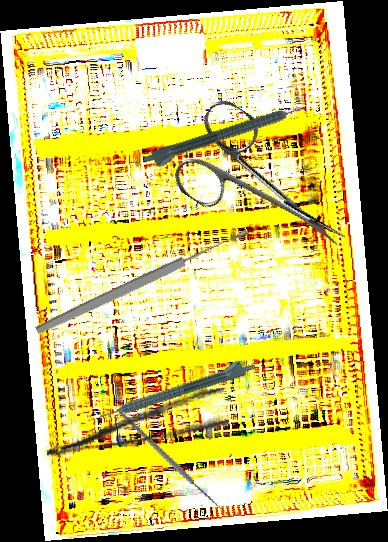Dressing Forceps: (40, 386, 231, 460)
Handpiece: (142, 101, 309, 173), (94, 353, 258, 424)
Hook Surgical: (116, 385, 239, 540)
Iris Scissors: (162, 94, 372, 282)
Surgical Spoon: (34, 226, 250, 337)
